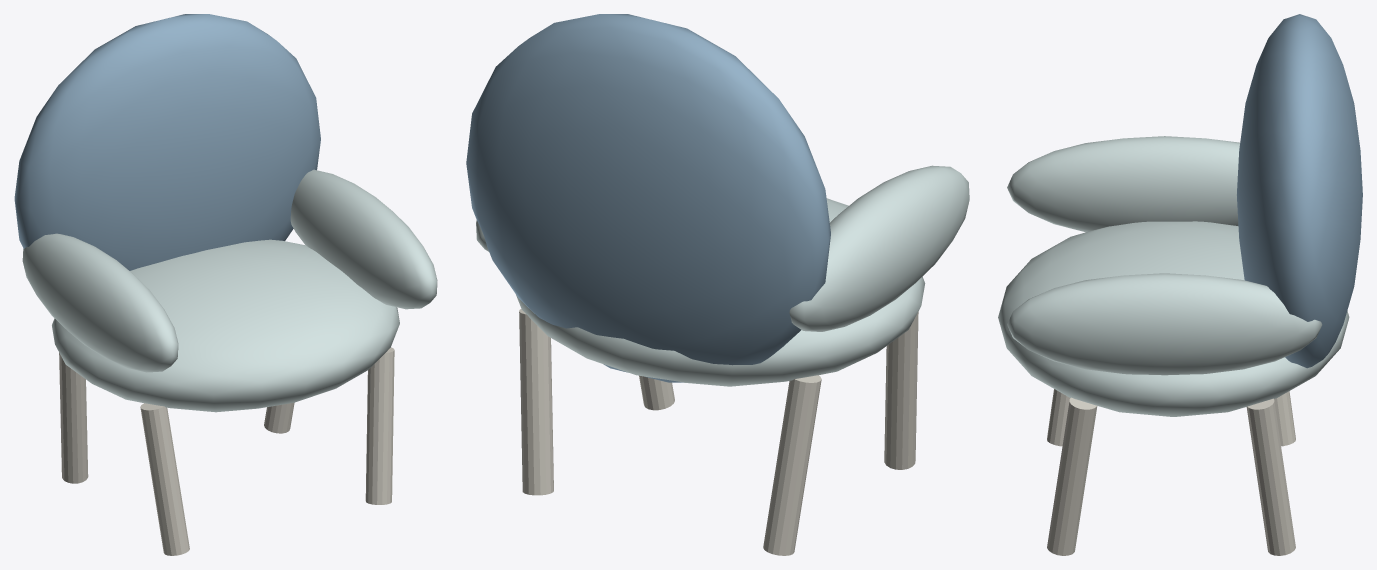
The model's file is lounge_chair.glb.
The picture shows the model from 3 angles, left to right: view 1: azimuth 30°, elevation 25°; view 2: azimuth 150°, elevation 25°; view 3: azimuth 270°, elevation 25°; orthographic projection. The views are drawn at different scales.
Visible parts, largest first — view 1: decor_9bb7b5_fabric, decor_476a8a_fabric, decor_aaa493_matte; view 2: decor_476a8a_fabric, decor_9bb7b5_fabric, decor_aaa493_matte; view 3: decor_9bb7b5_fabric, decor_476a8a_fabric, decor_aaa493_matte.
Part boxes in pixels (left/top/right/bottom): decor_9bb7b5_fabric: left=22, top=169, right=437, bottom=412; decor_476a8a_fabric: left=14, top=14, right=320, bottom=270; decor_aaa493_matte: left=59, top=347, right=394, bottom=555; decor_476a8a_fabric: left=466, top=14, right=830, bottom=382; decor_9bb7b5_fabric: left=476, top=165, right=969, bottom=386; decor_aaa493_matte: left=519, top=309, right=918, bottom=555; decor_9bb7b5_fabric: left=998, top=136, right=1349, bottom=416; decor_476a8a_fabric: left=1237, top=14, right=1362, bottom=368; decor_aaa493_matte: left=1047, top=389, right=1295, bottom=555.
Bounding box in the file's own units: 0.89 × 1.14 × 0.81.
